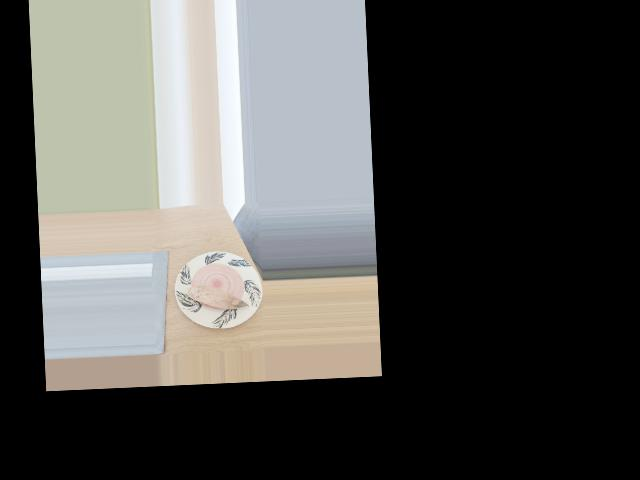sweet_potato: (189, 279, 243, 316)
